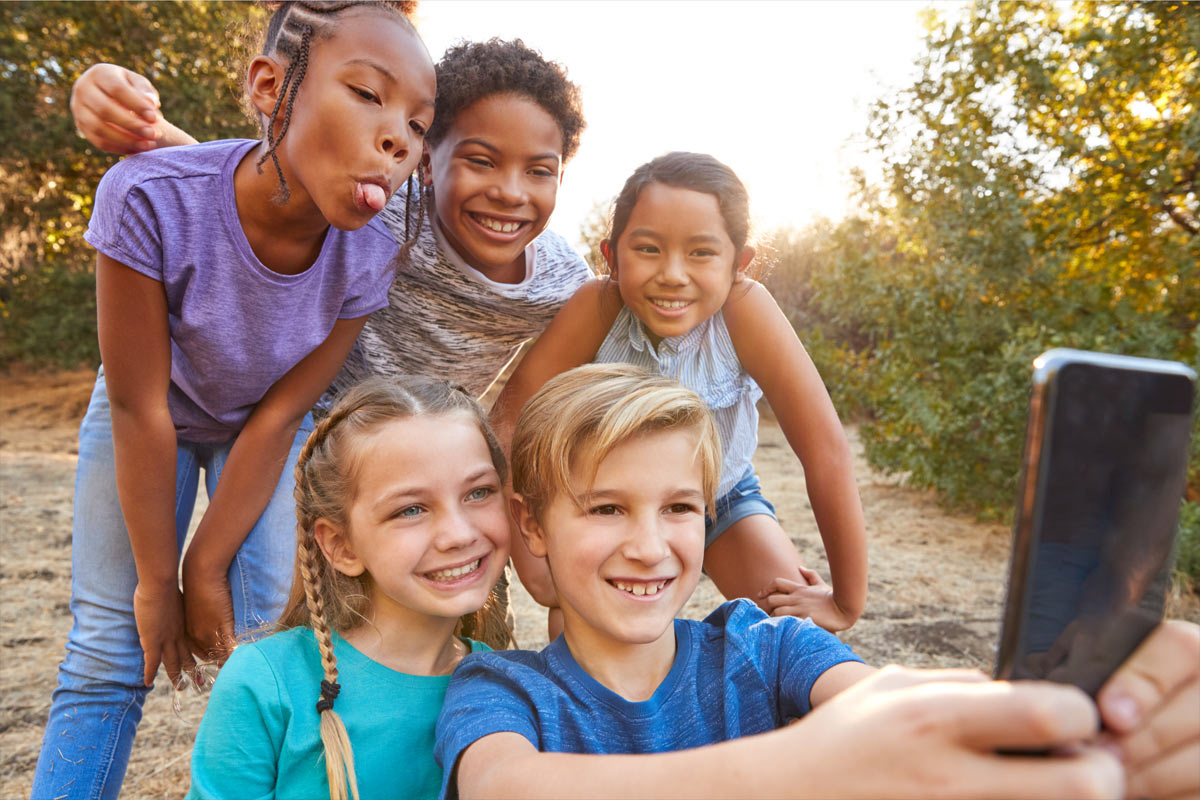human: (1, 3, 461, 800), (485, 345, 1200, 800), (483, 131, 892, 603), (175, 363, 526, 800), (297, 25, 617, 464)
